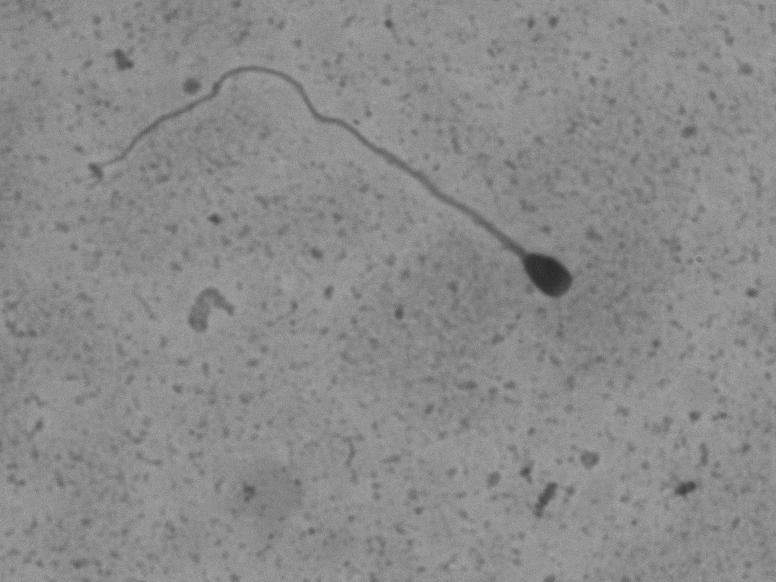Normal: (84, 54, 630, 353)
